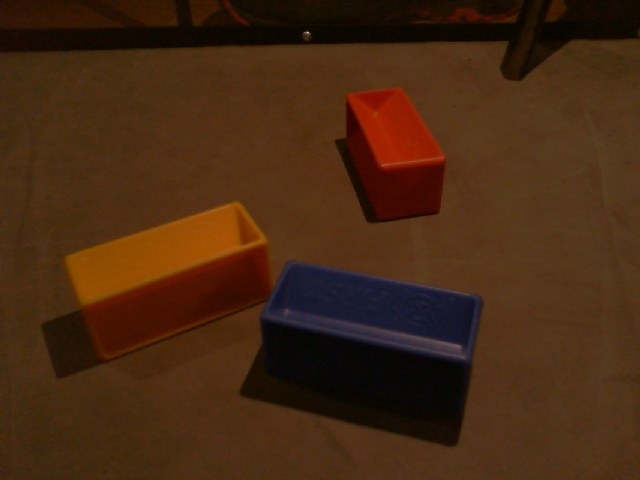BlueSample: (259, 259, 485, 420)
RedSample: (342, 86, 446, 224)
YellowSample: (61, 197, 271, 363)
